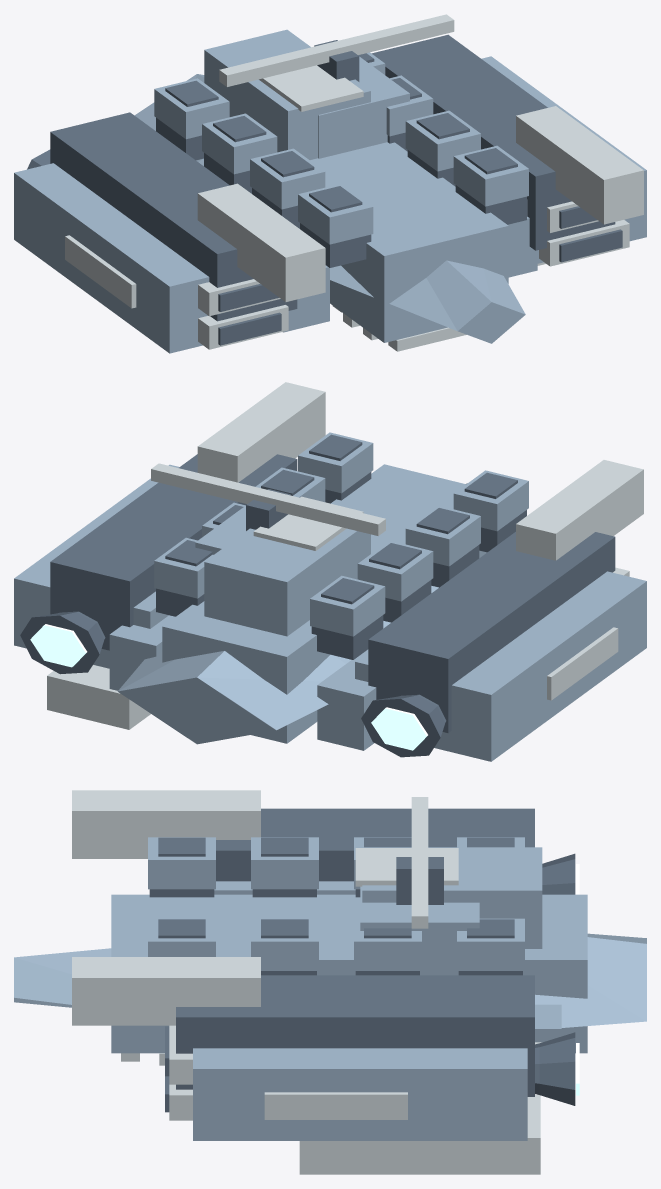
The picture shows the model from 3 angles, top to bottom: view 1: azimuth 30°, elevation 25°; view 2: azimuth 150°, elevation 25°; view 3: azimuth 270°, elevation 25°; orthographic projection. The views are drawn at different scales.
Bounding box in the file's own units: 18.74 × 7.93 × 19.67.
